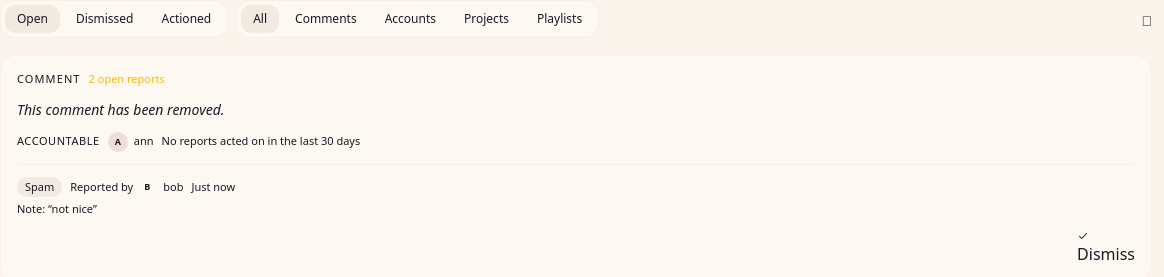
Test: AdminReportsTab › filters by type and by status, and offers no delete for a target that is gone
The width and height of the screenshot is (1164, 277).
Expected: the text "This comment has been removed." is shown, [17, 100, 224, 118]
What coordinates should you click on to do the following:
click the tab "Playlists"
I would click on:
 (560, 19)
Its box is [525, 5, 594, 33].
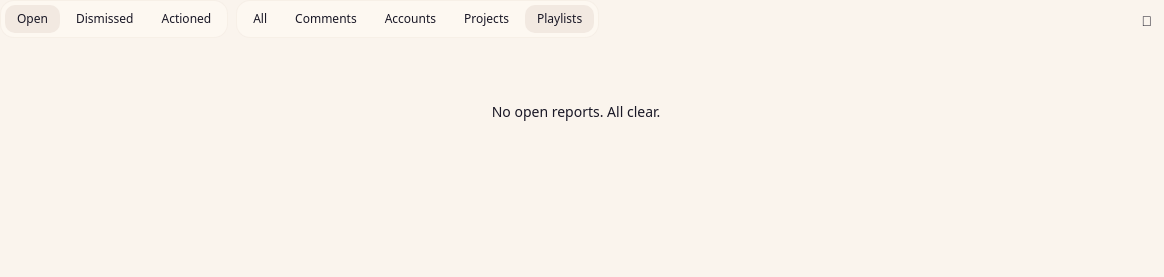
What coordinates should you click on to do the following:
click the tab "Dismissed"
I would click on:
 (105, 19)
Its box is [64, 5, 146, 33].
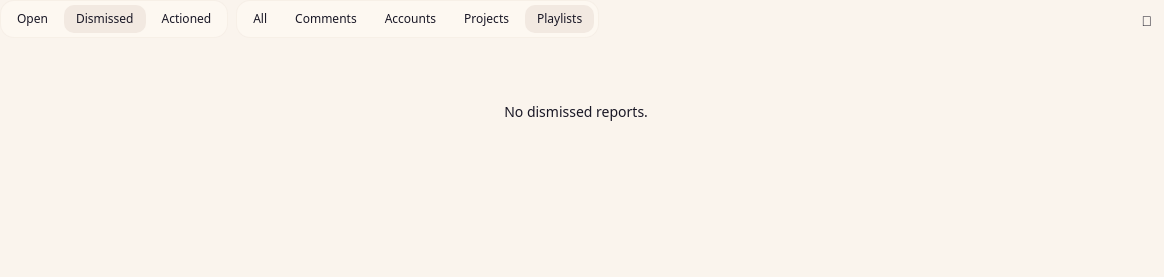
Now the text "No dismissed reports." is shown, box [504, 102, 648, 121]
